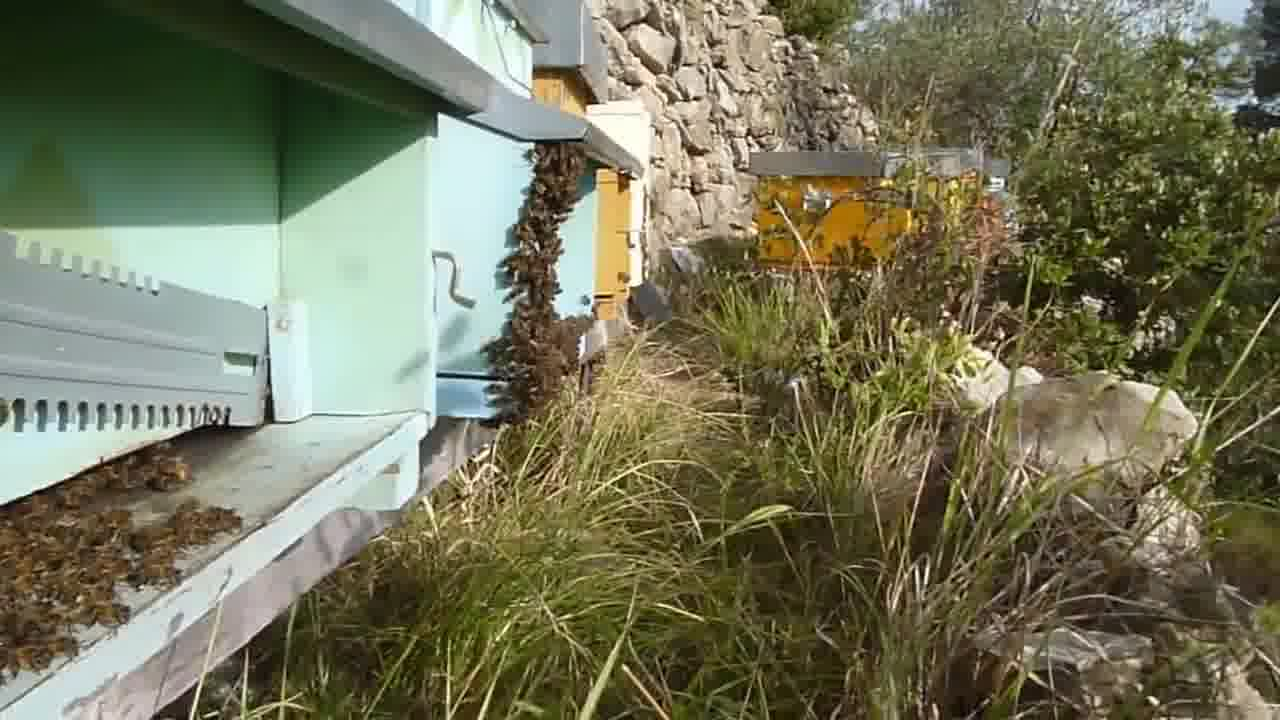bee: (6, 501, 135, 548), (472, 329, 559, 398), (158, 503, 246, 562), (76, 546, 142, 617), (3, 547, 60, 621), (500, 263, 561, 329), (514, 200, 570, 263), (8, 629, 84, 674), (524, 141, 580, 200), (148, 447, 202, 501)
